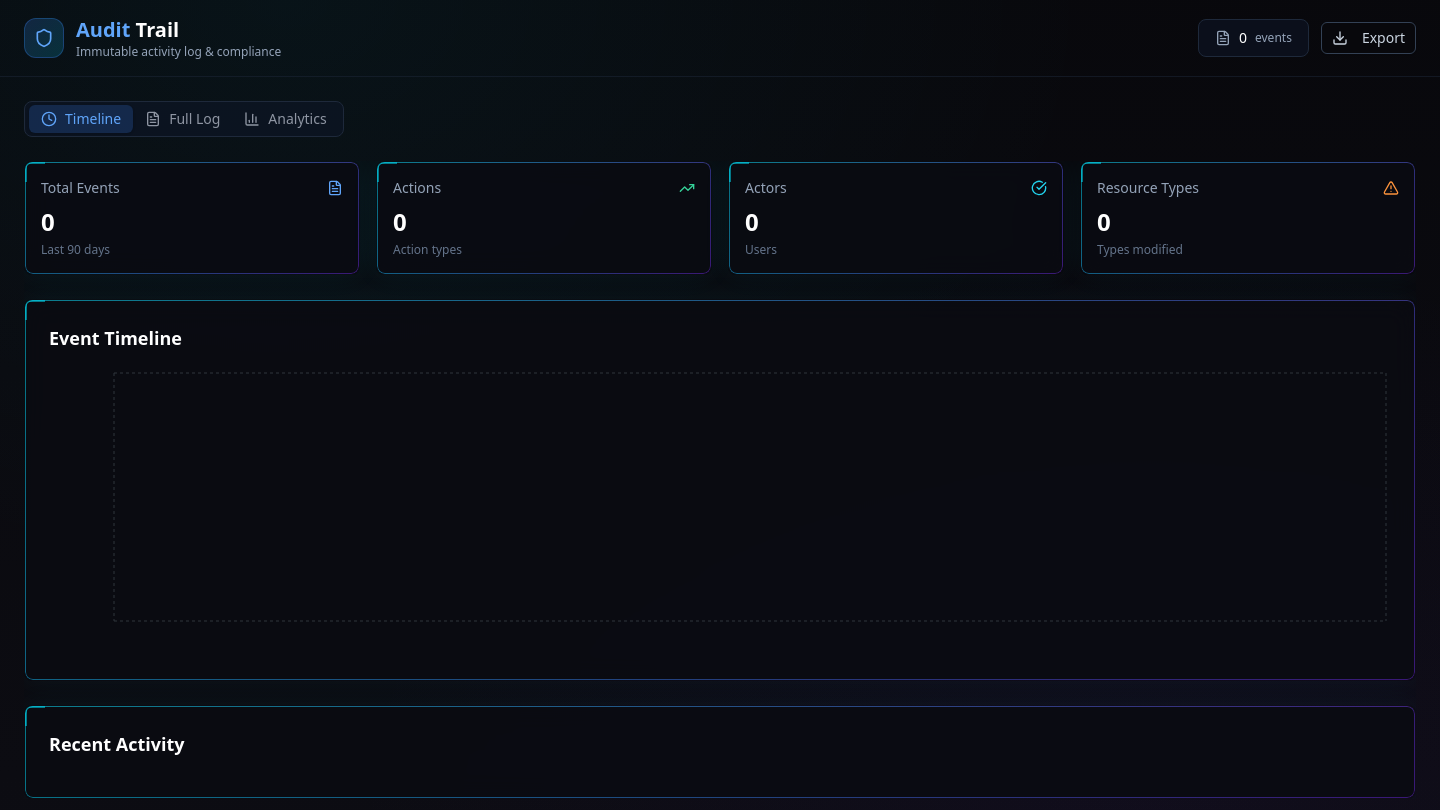
Test: AuditPage › Full Log Tab › should navigate to full log tab
Click the tab "Full Log": [183, 119] box [133,105,232,133]
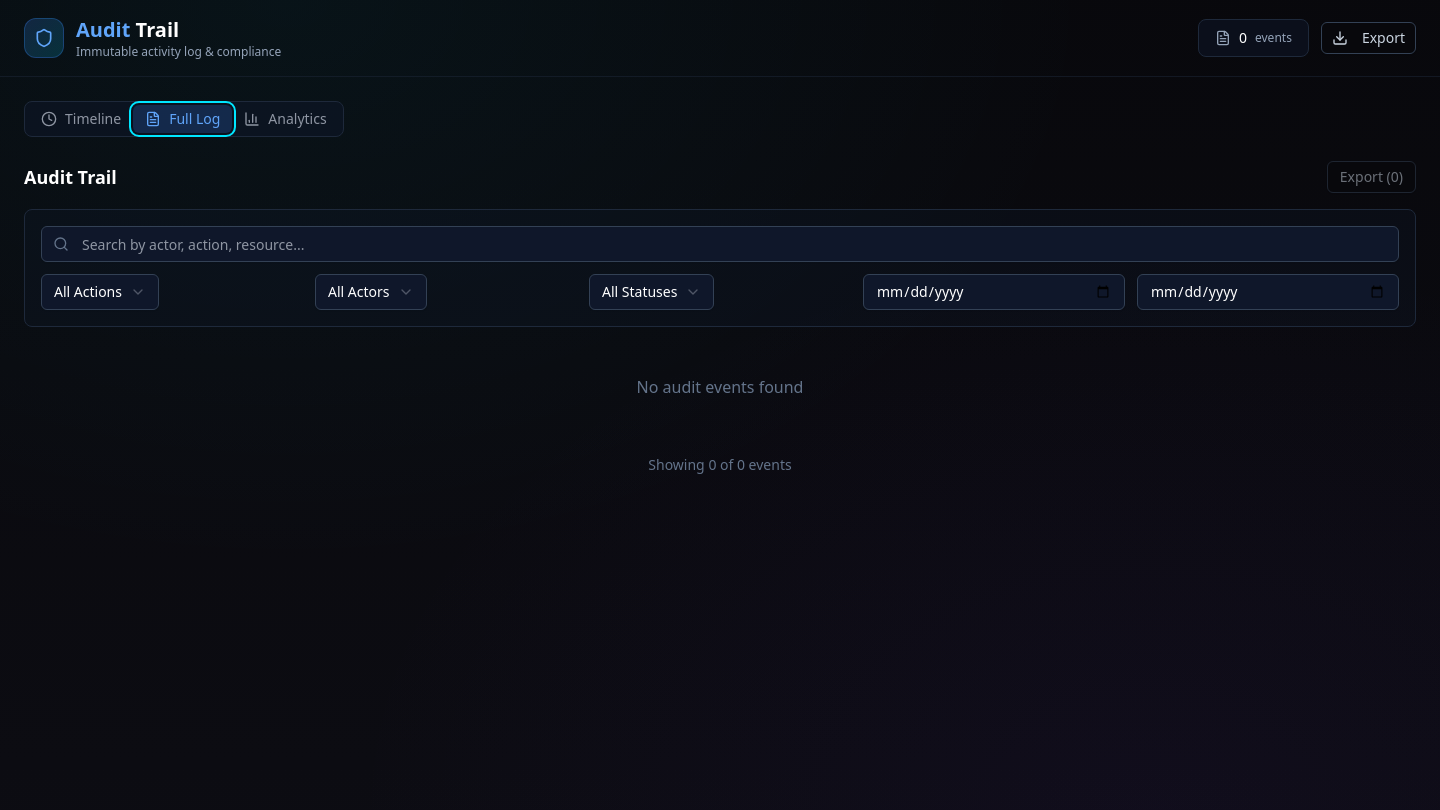
Result: the 2nd heading "Audit Trail" is shown at [24,163,117,191]
